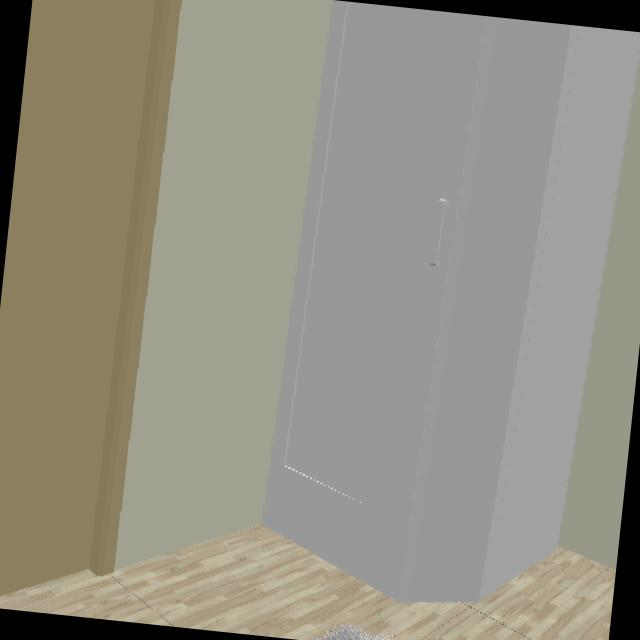shower: (260, 0, 640, 604)
